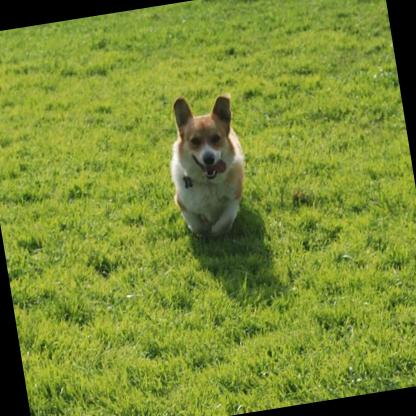Cardigan: (157, 86, 254, 244)
